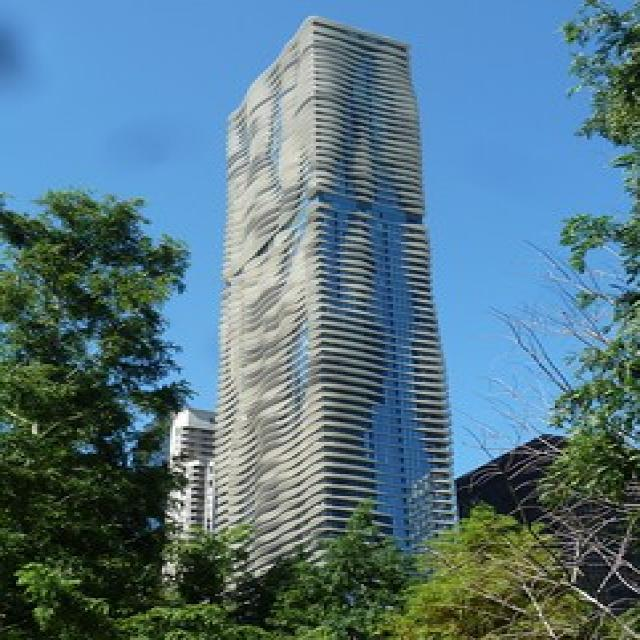Normal_building: (156, 7, 472, 577)
